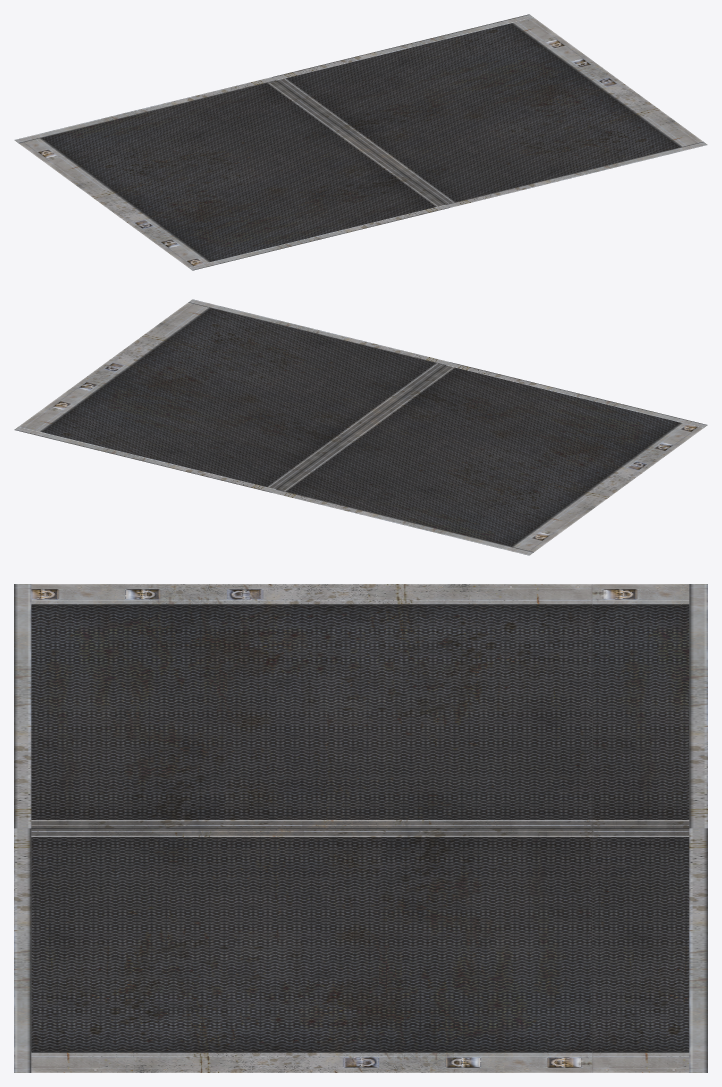
File: Floor_A_5mts_08.fbx
The picture shows the model from 3 angles, top to bottom: view 1: azimuth 30°, elevation 25°; view 2: azimuth 150°, elevation 25°; view 3: azimuth 270°, elevation 25°; orthographic projection. The views are drawn at different scales.
Visible parts, largest first — view 1: Floor_A_5mts_08; view 2: Floor_A_5mts_08; view 3: Floor_A_5mts_08.
Boxes of the visible parts, x1,y1,x2,y2 form: Floor_A_5mts_08: [14, 14, 707, 270]; Floor_A_5mts_08: [14, 299, 707, 555]; Floor_A_5mts_08: [14, 584, 707, 1072].
Size of the model in its own units: 500 by 0.000108 by 300.
1 material, 1 textured.
